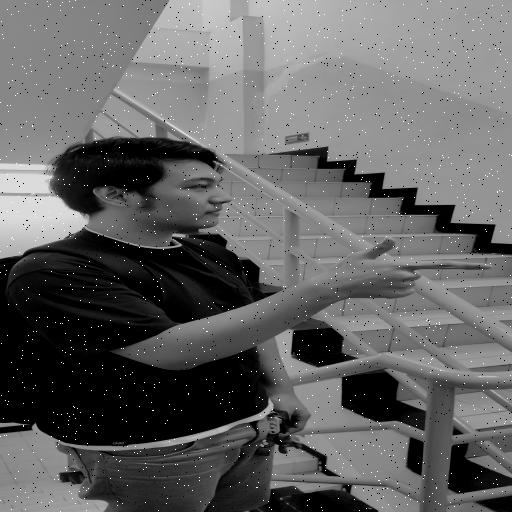next: (312, 237, 501, 311)
